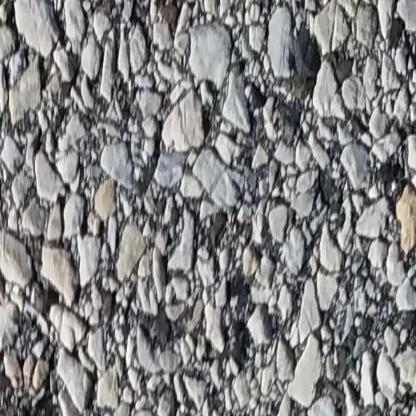Cracks: (0, 396, 71, 416)
